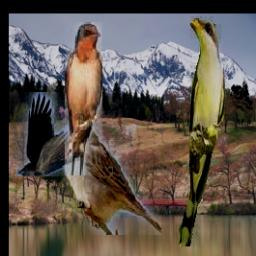Crow: (16, 92, 83, 176)
Cuckoo: (179, 16, 225, 246)
Sparrow: (63, 122, 162, 236)
Swallow: (66, 22, 103, 175)
